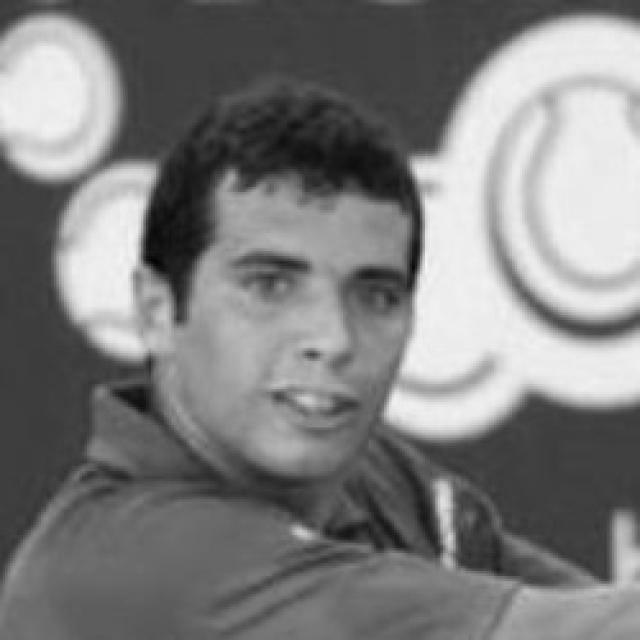real: (189, 169, 412, 474), (216, 247, 400, 317)
